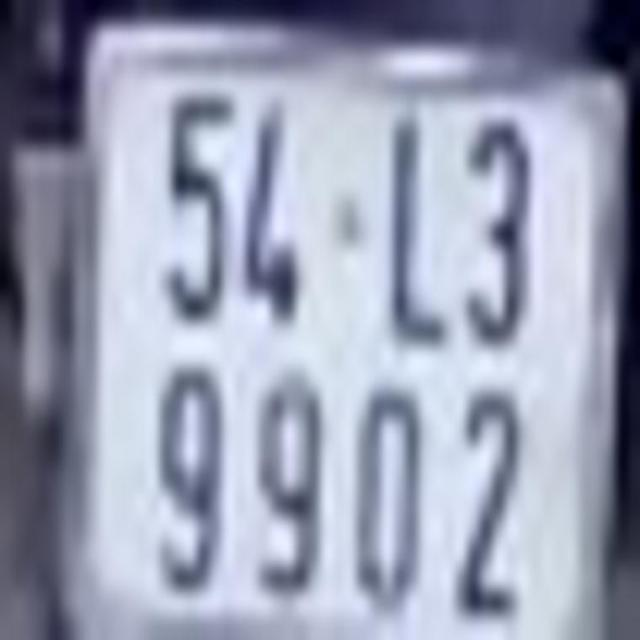0: (356, 393, 414, 609)
2: (458, 394, 520, 609)
3: (468, 123, 530, 343)
4: (242, 106, 305, 312)
5: (168, 99, 228, 312)
9: (155, 371, 219, 584), (258, 378, 318, 592)
L: (383, 120, 444, 342)
